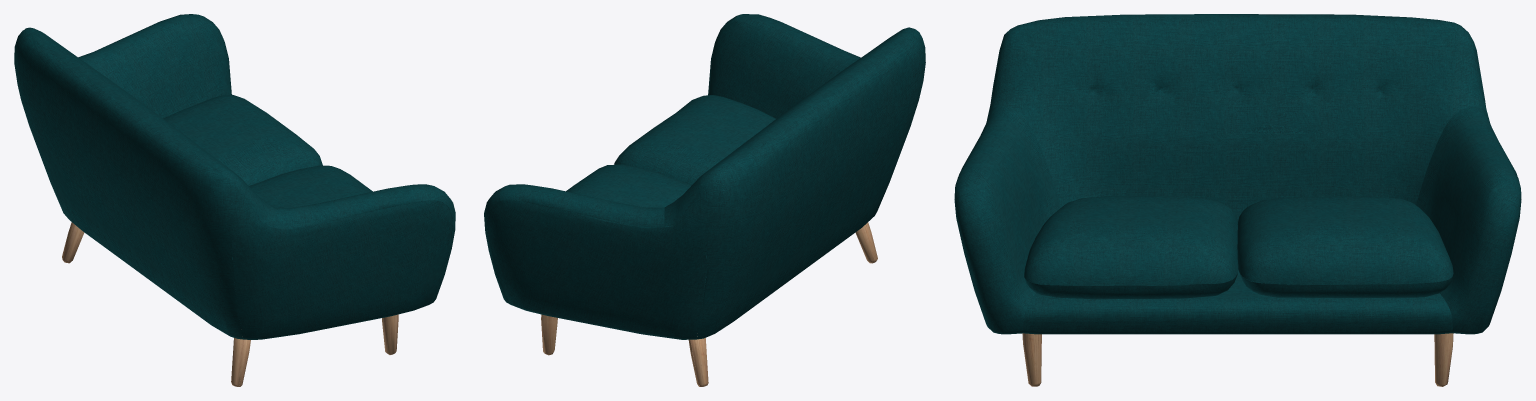
The model's file is sofa04.glb.
3 renders of one model, left to right at view 1: azimuth 30°, elevation 25°; view 2: azimuth 150°, elevation 25°; view 3: azimuth 270°, elevation 25°, orthographic. The views are drawn at different scales.
Parts seen in each view (by area): view 1: sofa; view 2: sofa; view 3: sofa.
Boxes of the visible parts, x1,y1,x2,y2 form: sofa: (14,14,455,386); sofa: (484,14,925,386); sofa: (954,14,1521,386).
Bounding box in the file's own units: 1.14 × 1.09 × 2.08.
2 materials, 2 textured.
